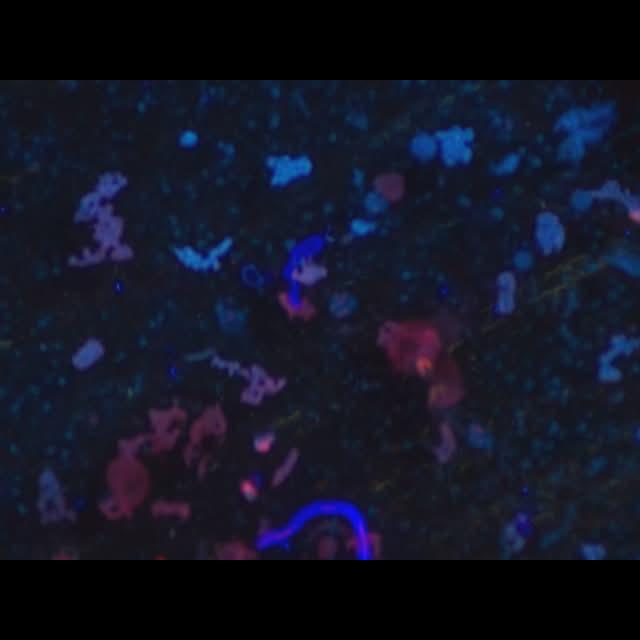Fragment: (97, 398, 226, 520)
